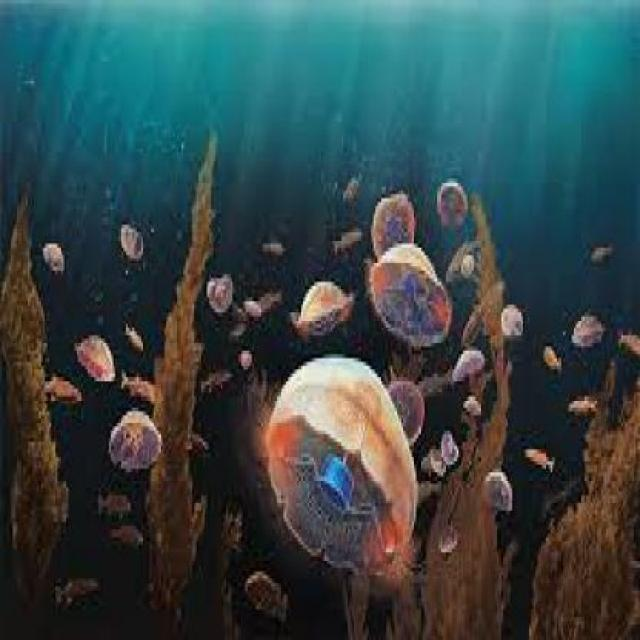Jellyfish: (258, 346, 420, 583), (365, 240, 450, 343), (286, 259, 354, 339), (364, 180, 420, 254), (102, 404, 162, 473), (428, 175, 470, 232), (71, 328, 115, 382), (480, 461, 517, 510), (564, 308, 606, 347), (448, 342, 484, 378)
